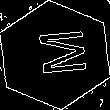M_W: (25, 30, 85, 80)
